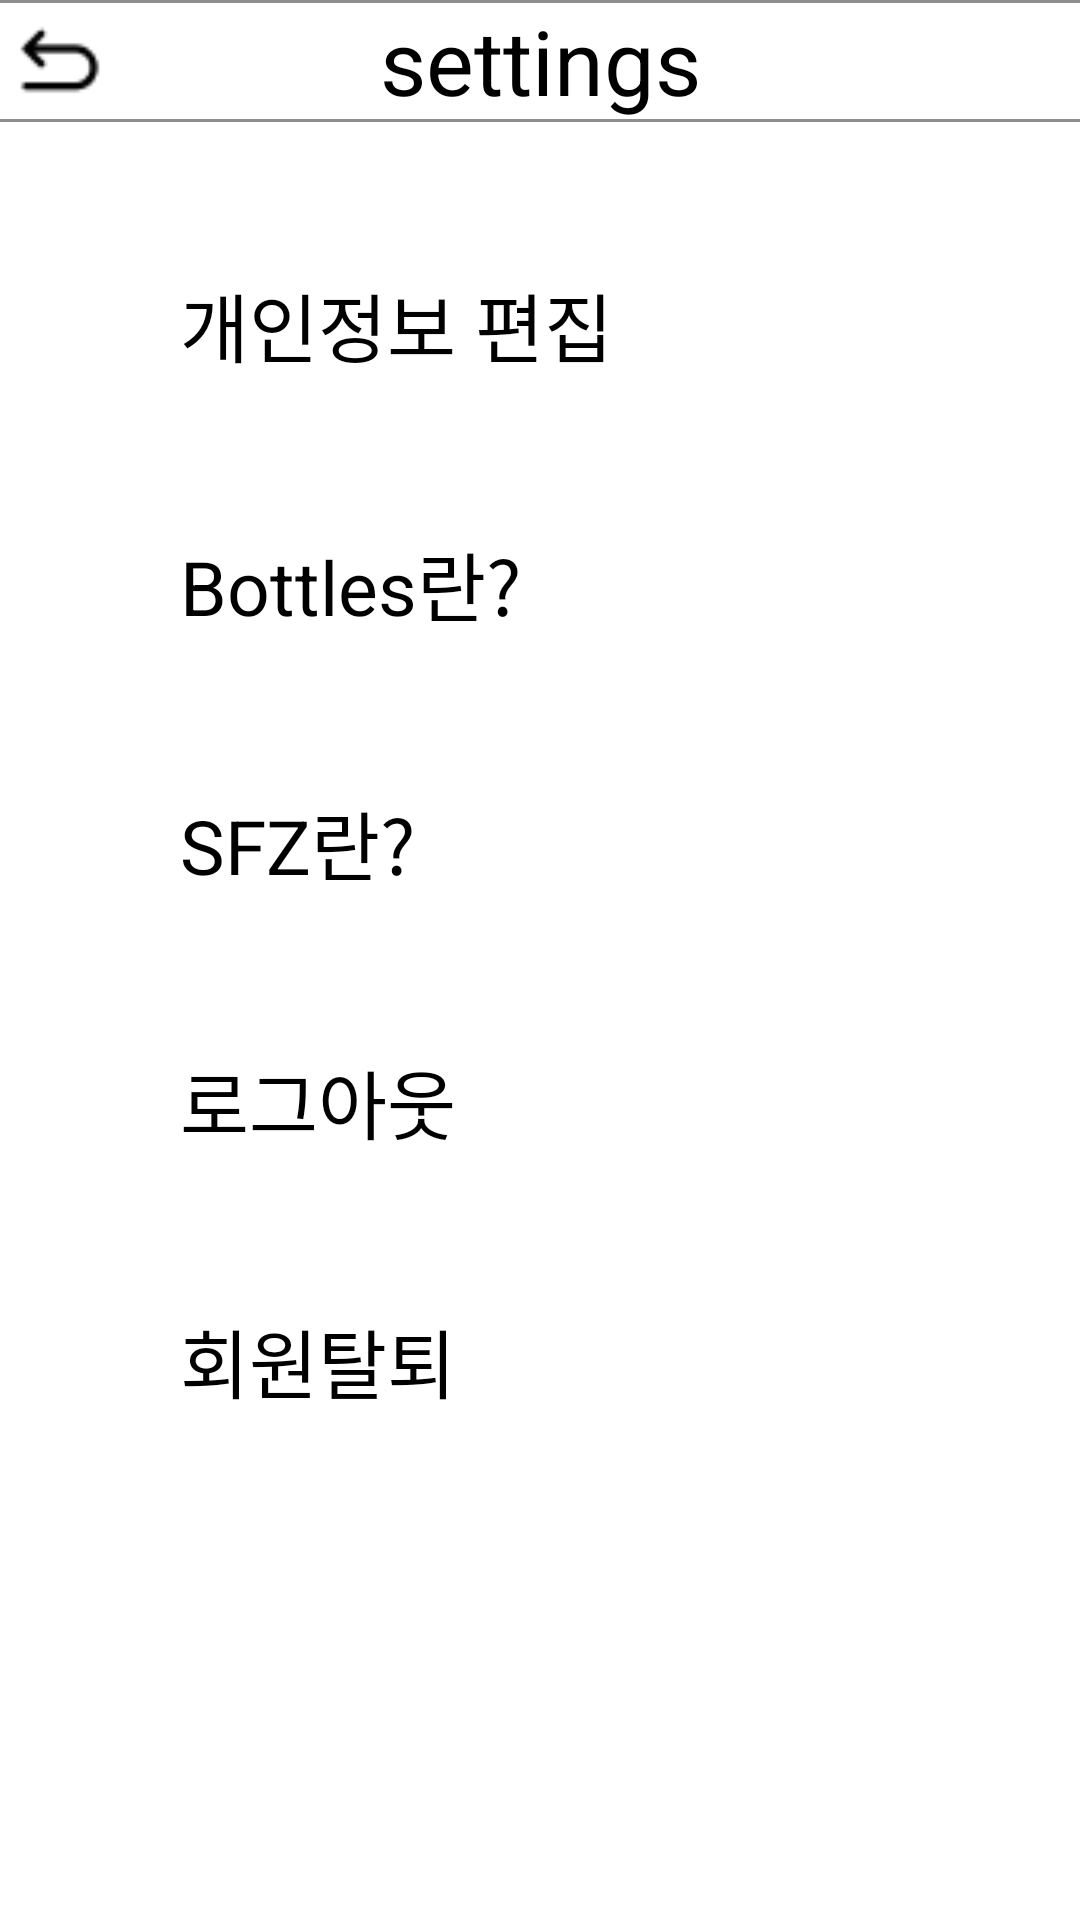

Point at icon controls on the screen. Image size 1080x1920, points as (x,y).
back arrow: (60,60)
